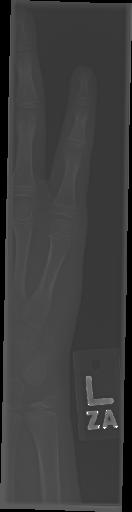fingers positive: (11, 103, 41, 148)
